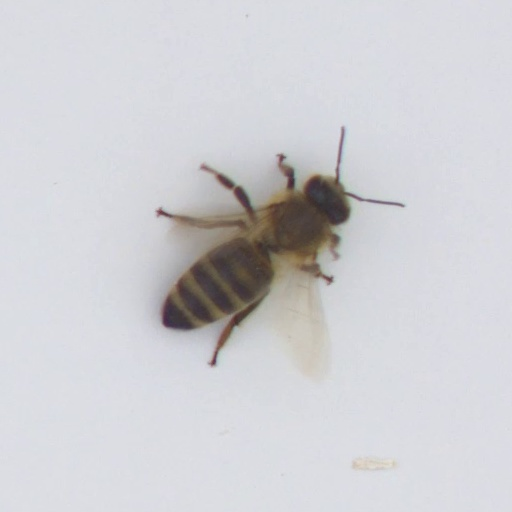Bee: (139, 164, 376, 347)
Thorax: (254, 188, 334, 252)
